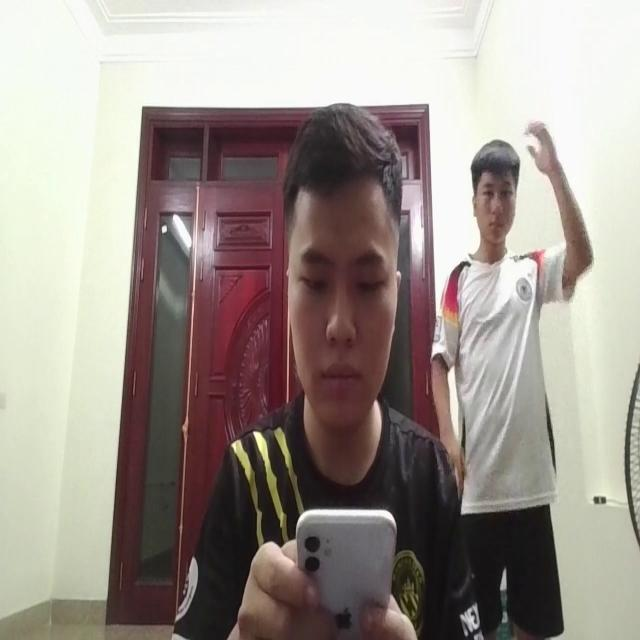extra_person: (429, 89, 594, 630)
phone: (282, 499, 416, 640)
student: (241, 96, 438, 498)
